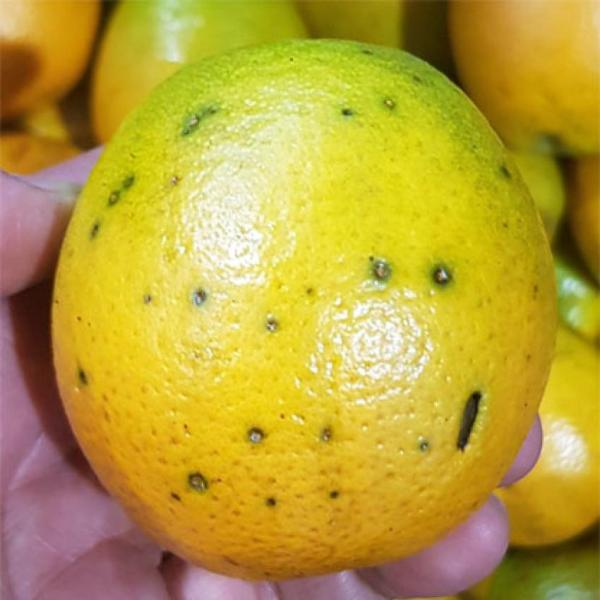Trips: (43, 24, 579, 580)
